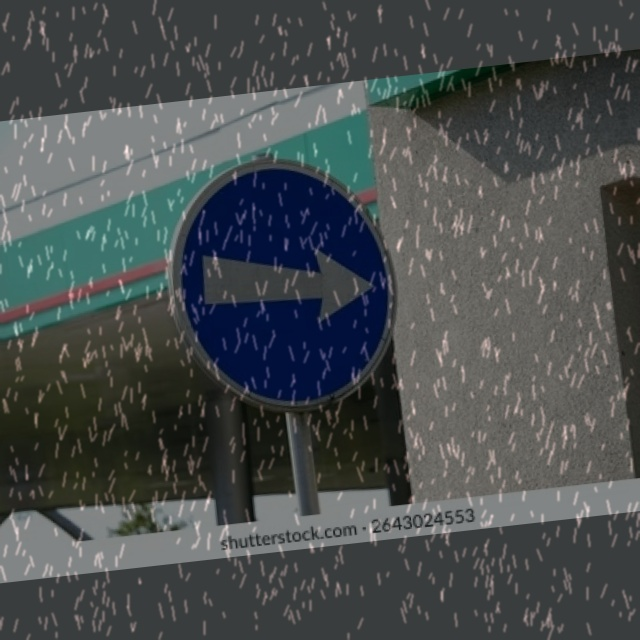Compulsory_Turn_Right: (162, 143, 415, 425)
